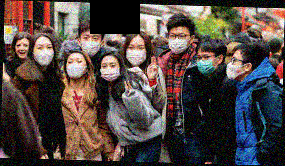with_mask: (80, 32, 103, 57), (168, 30, 191, 55), (125, 42, 147, 66), (196, 52, 218, 76), (224, 55, 244, 81), (99, 60, 122, 82), (33, 42, 53, 66), (66, 56, 87, 78)
without_mask: (15, 41, 31, 59)
